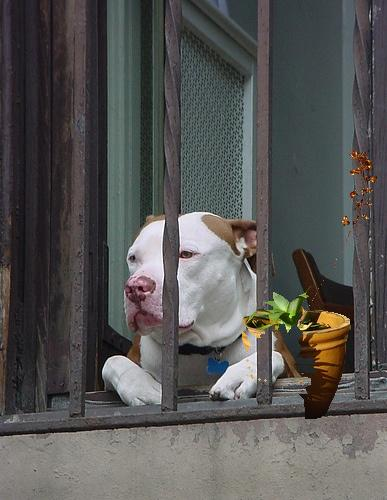tampered: (242, 151, 377, 419)
